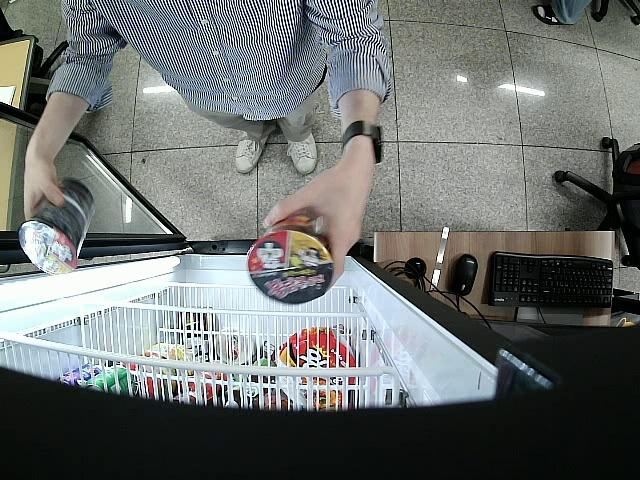00_hand: (260, 168, 368, 297), (23, 152, 65, 224)
08_buldak_S: (247, 212, 333, 306), (19, 179, 95, 274)
